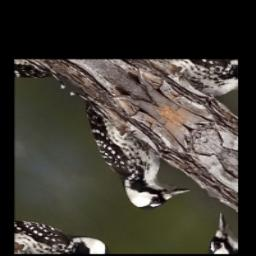Woodpecker: (46, 94, 204, 227)
